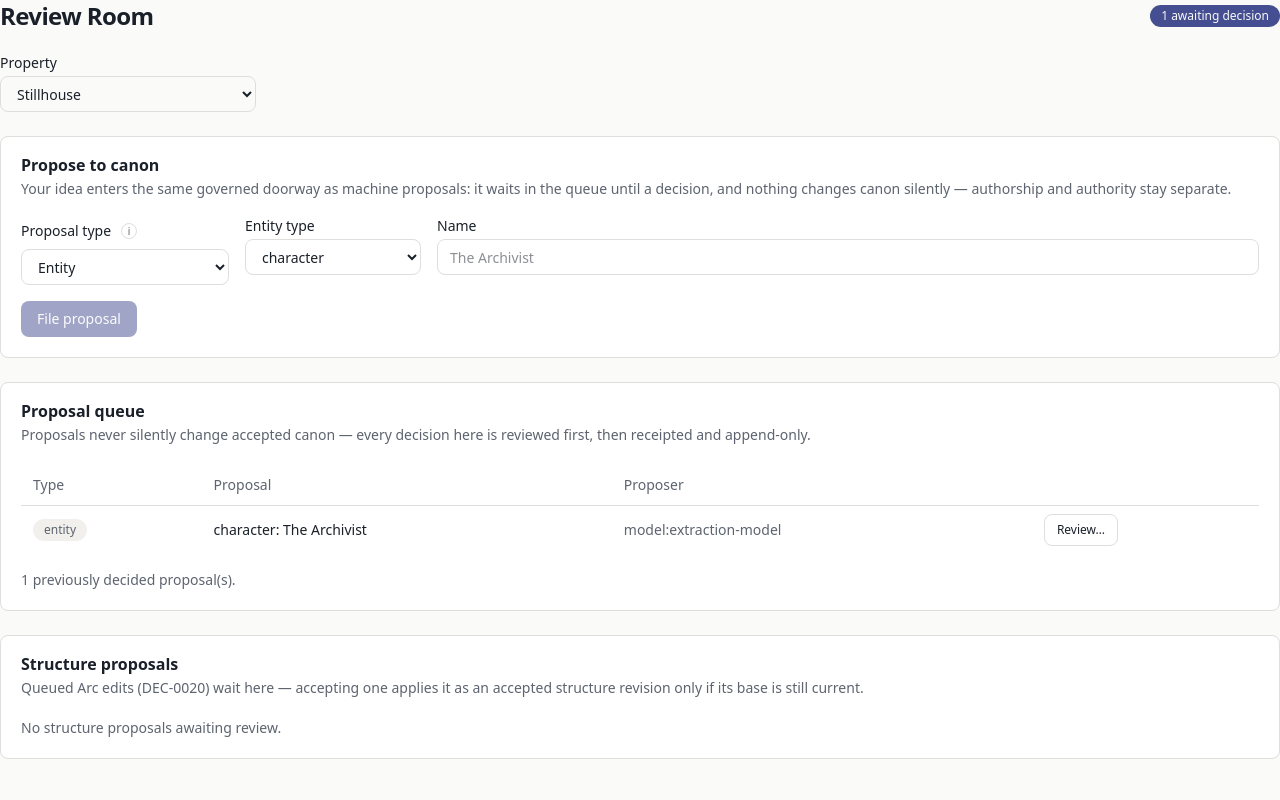
Review Room — proposal provenance and impact (SWUX-011) › keeps Accept/Reject usable when the provenance fetch fails
Expected: the text "character: The Archivist" is shown, [202,505,612,554]
Click the button "Review…" at (1081, 530), box [1044,514,1118,546]
(page scrolled)
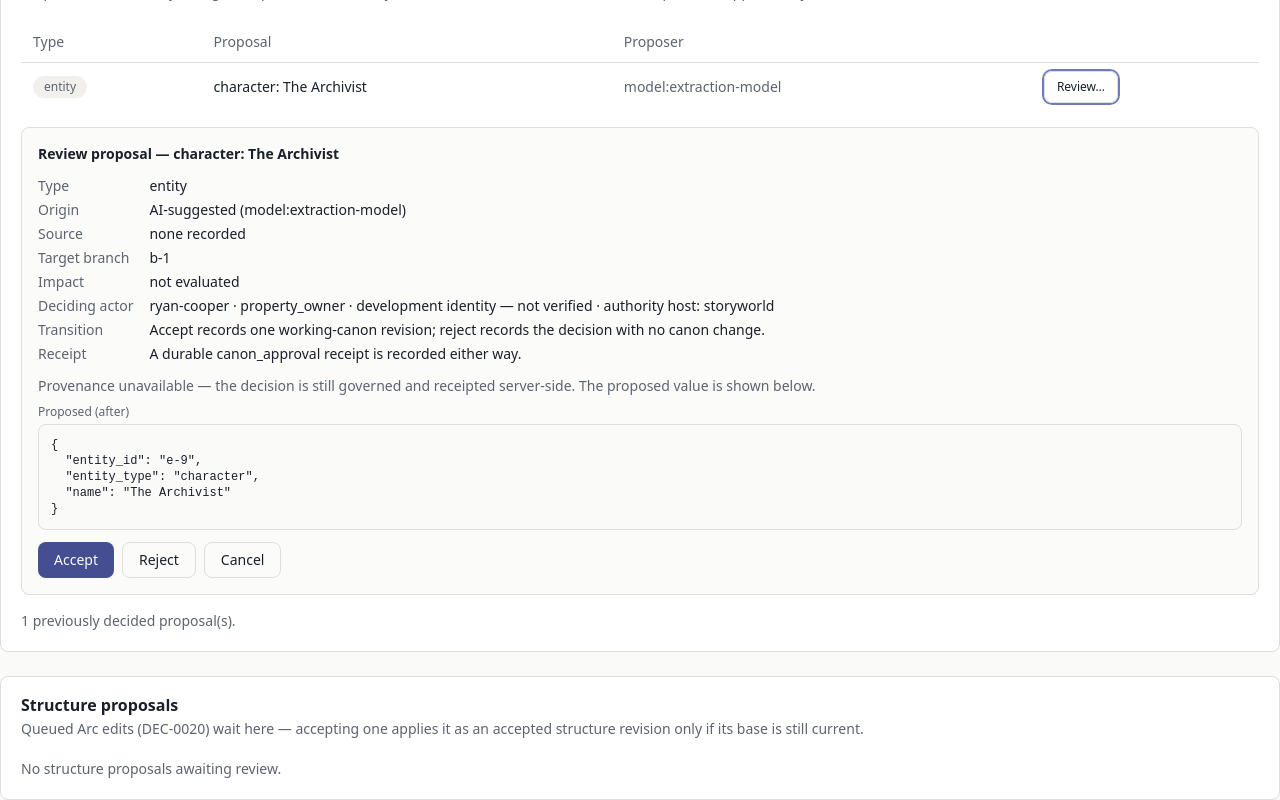
Expected: the text "Provenance unavailable" is shown, [38,376,816,394]
Expected: the button "Accept" is enabled, [38,542,114,578]
Expected: the button "Reject" is enabled, [122,542,196,578]
